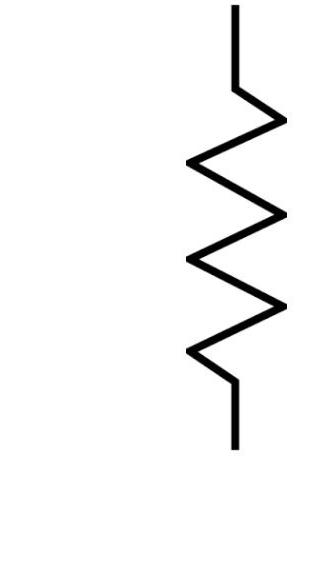resistor: (161, 55, 304, 407)
